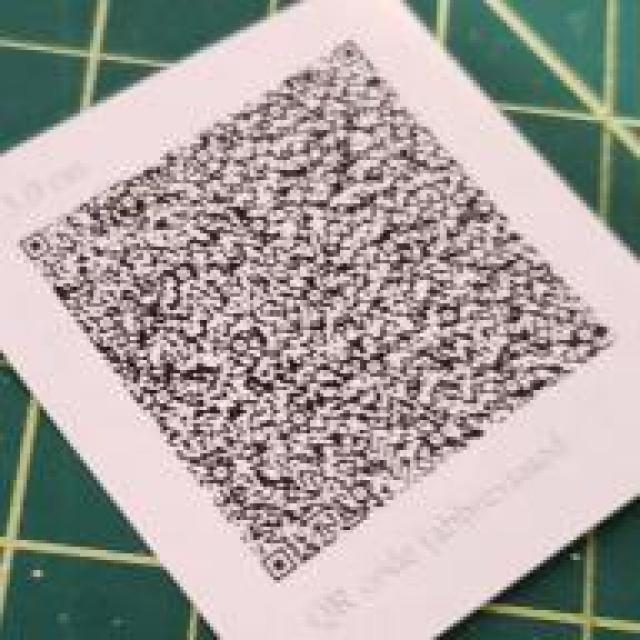QR_CODE: (7, 27, 625, 588)
